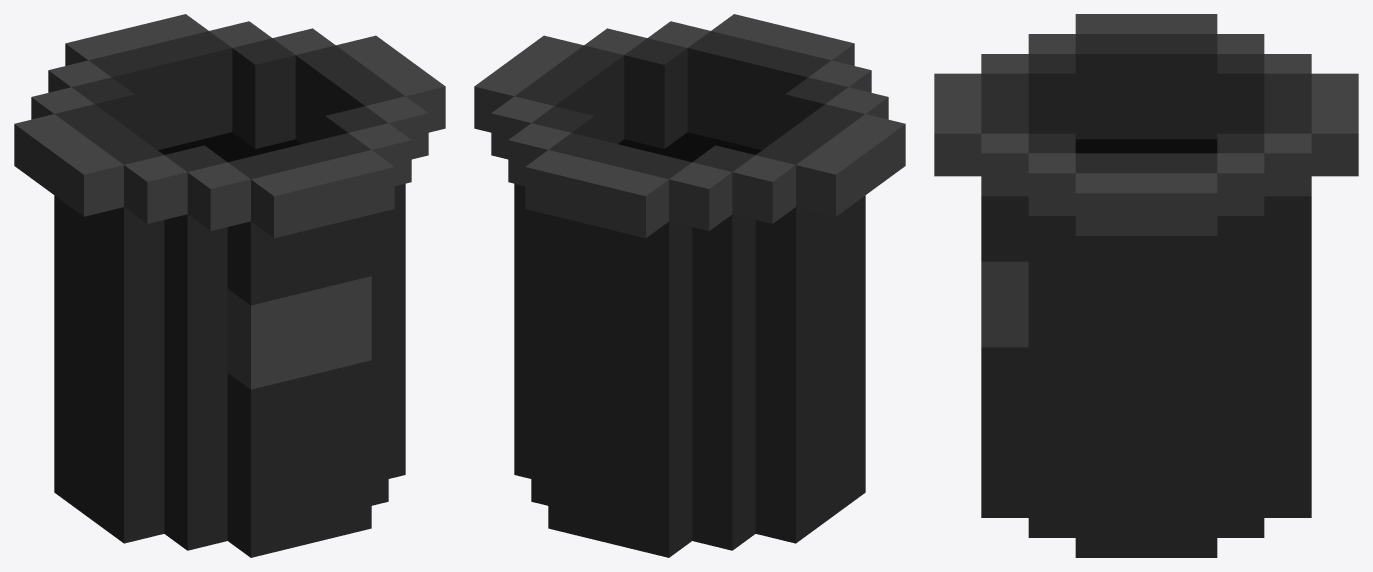
File: Bin.obj
3 renders of one model, left to right at view 1: azimuth 30°, elevation 25°; view 2: azimuth 150°, elevation 25°; view 3: azimuth 270°, elevation 25°, orthographic.
Parts seen in each view (by area): view 1: Bin; view 2: Bin; view 3: Bin.
Part boxes in pixels (<box>): Bin: <box>14,14,445,557</box>; Bin: <box>474,14,905,557</box>; Bin: <box>934,14,1358,557</box>.
Size of the model in its own units: 9 by 9 by 9.
1 material, 1 textured.
